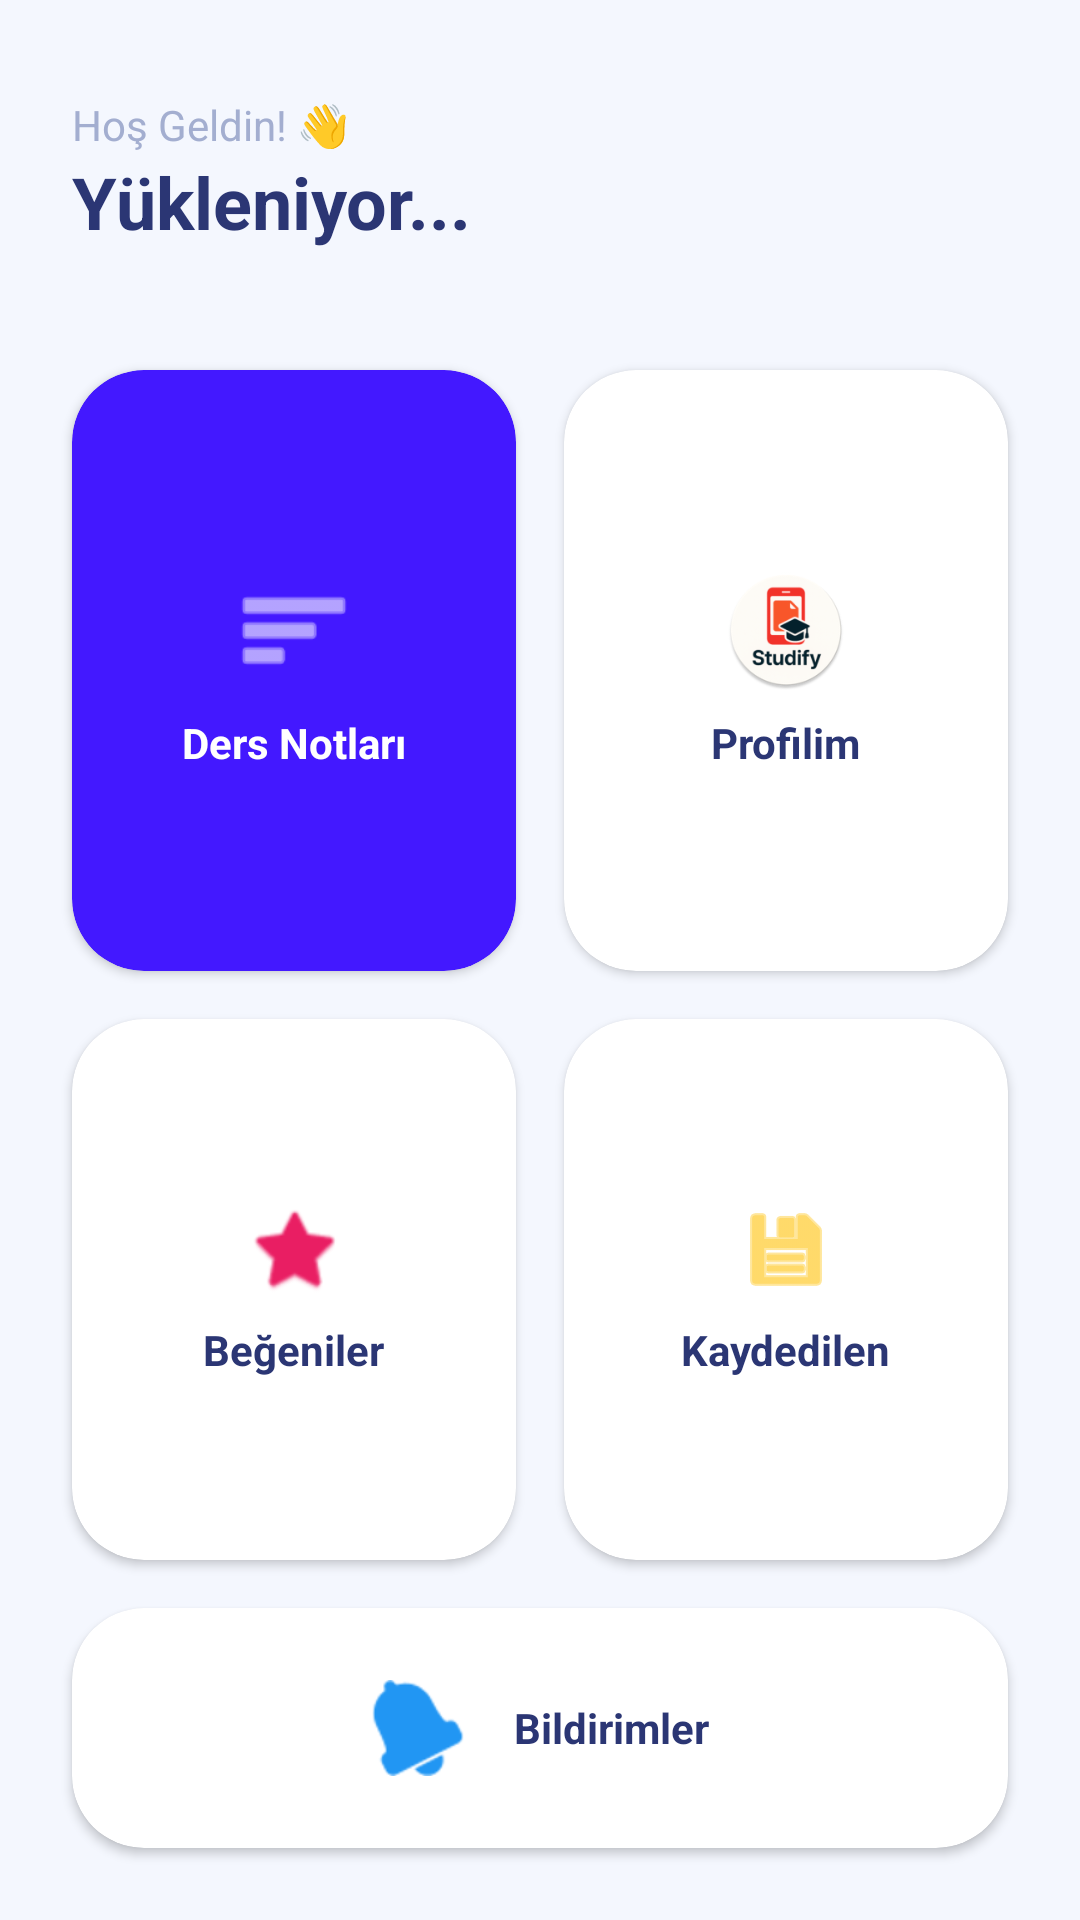

Screen size 1080*1920. Icon name, then its center in pixels as point (x, y):
popup reminder: point (418, 1728)
save: point (786, 1249)
sort by size: point (294, 630)
star on: point (295, 1250)
